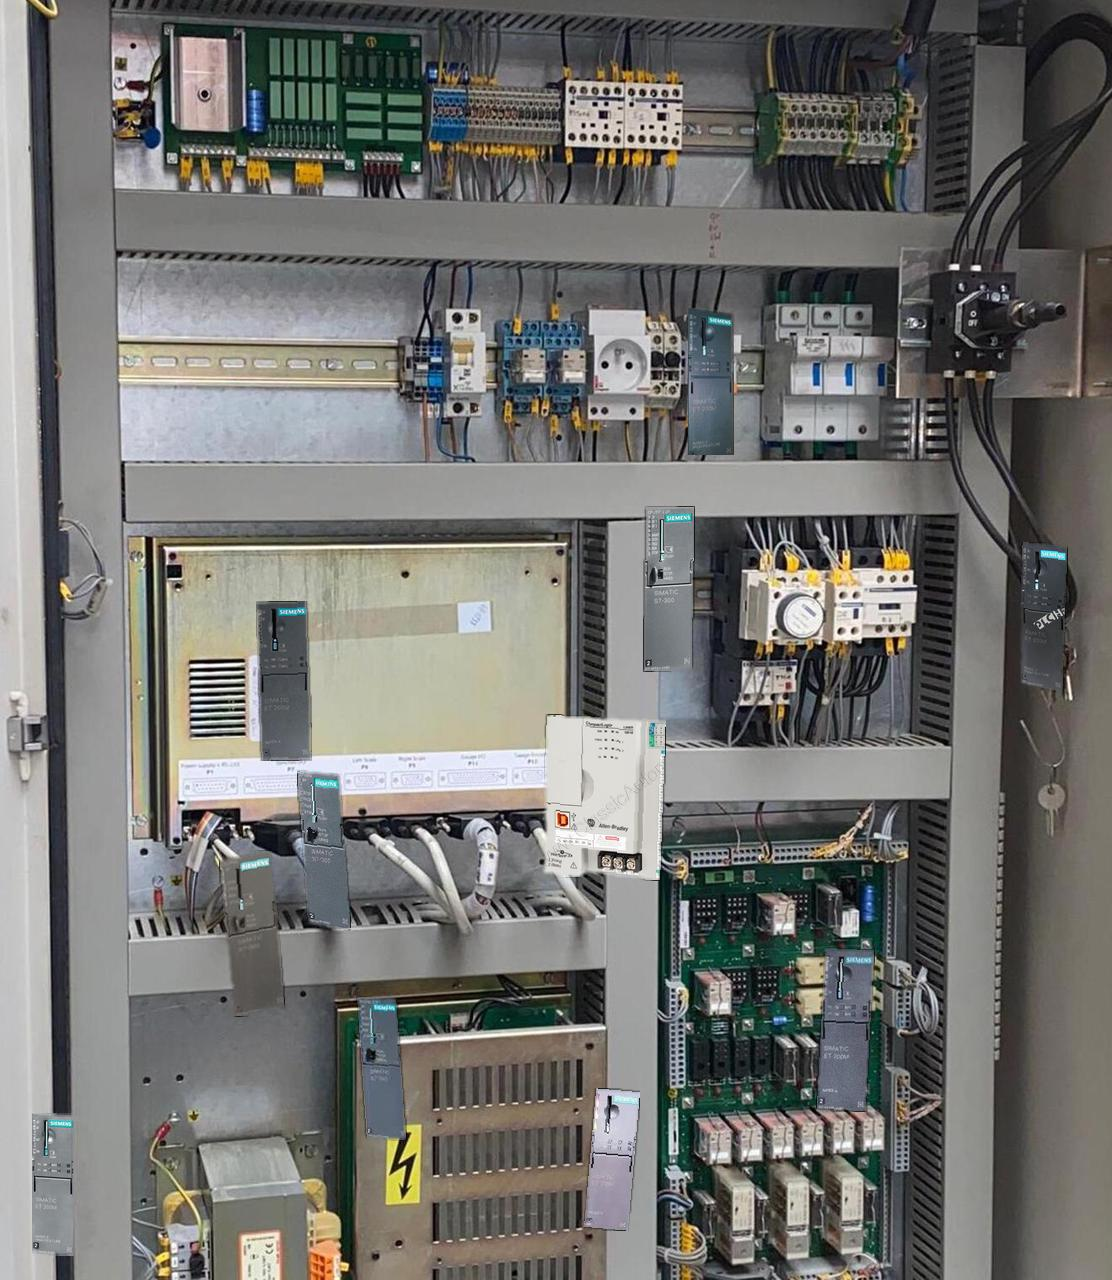AllenBradley: (544, 715, 665, 879)
Siemens: (220, 851, 283, 1016), (297, 772, 350, 928), (644, 507, 693, 670), (358, 997, 405, 1139)
